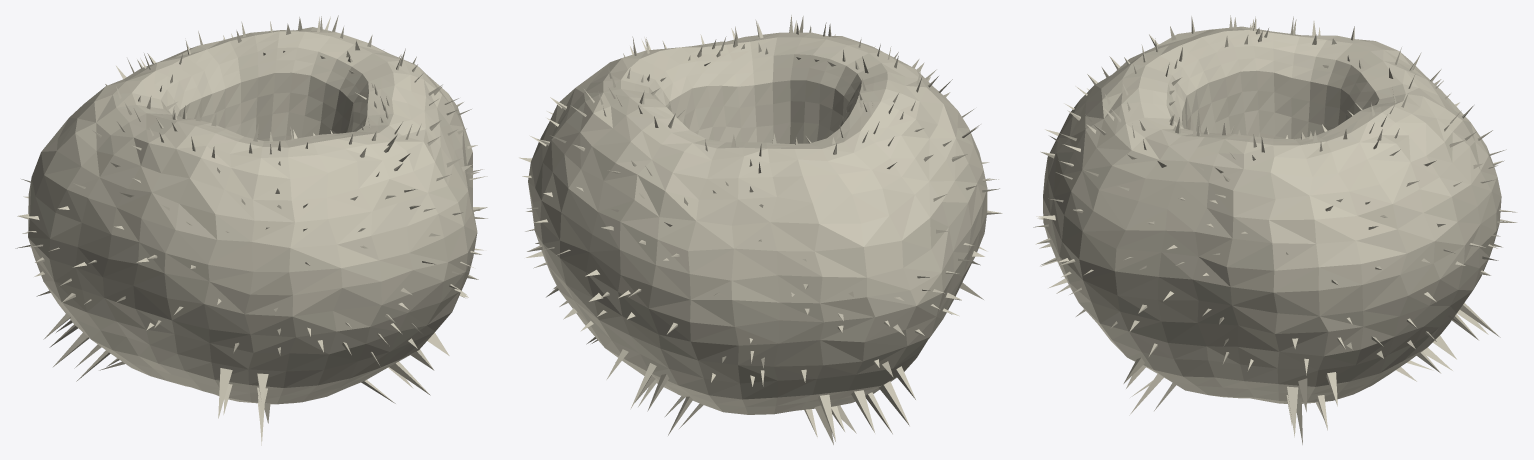
The picture shows the model from 3 angles, left to right: view 1: azimuth 30°, elevation 25°; view 2: azimuth 150°, elevation 25°; view 3: azimuth 270°, elevation 25°; orthographic projection. The views are drawn at different scales.
Visible parts, largest first — view 1: NEW647_Whole_living_glass_sponge; view 2: NEW647_Whole_living_glass_sponge; view 3: NEW647_Whole_living_glass_sponge.
Part boxes in pixels (x1=…): NEW647_Whole_living_glass_sponge: x1=15, y1=15, x2=487, y2=445; NEW647_Whole_living_glass_sponge: x1=519, y1=15, x2=1002, y2=444; NEW647_Whole_living_glass_sponge: x1=1033, y1=15, x2=1517, y2=444.
Bounding box in the file's own units: 0.1619 × 0.1099 × 0.1606.
